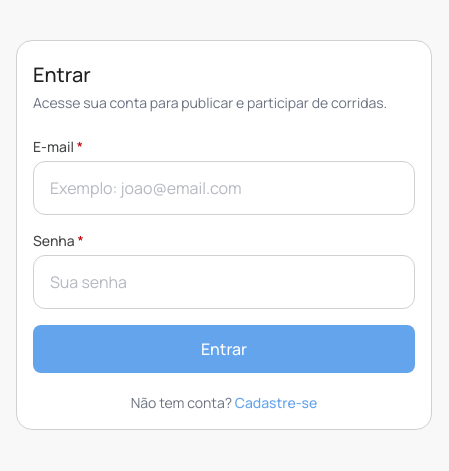
SignIn › blocks submission client-side when fields are empty
The image size is (449, 471).
What coordinates should you click on to do the following:
click the button "Entrar"
I would click on:
 (224, 349)
Its box is [33, 325, 415, 373].
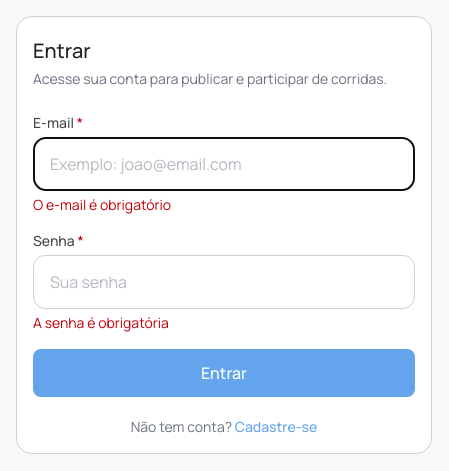
Check: the text "O e-mail é obrigatório" is shown, box [33, 195, 171, 214]
Check: the text "A senha é obrigatória" is shown, box [33, 313, 169, 332]
